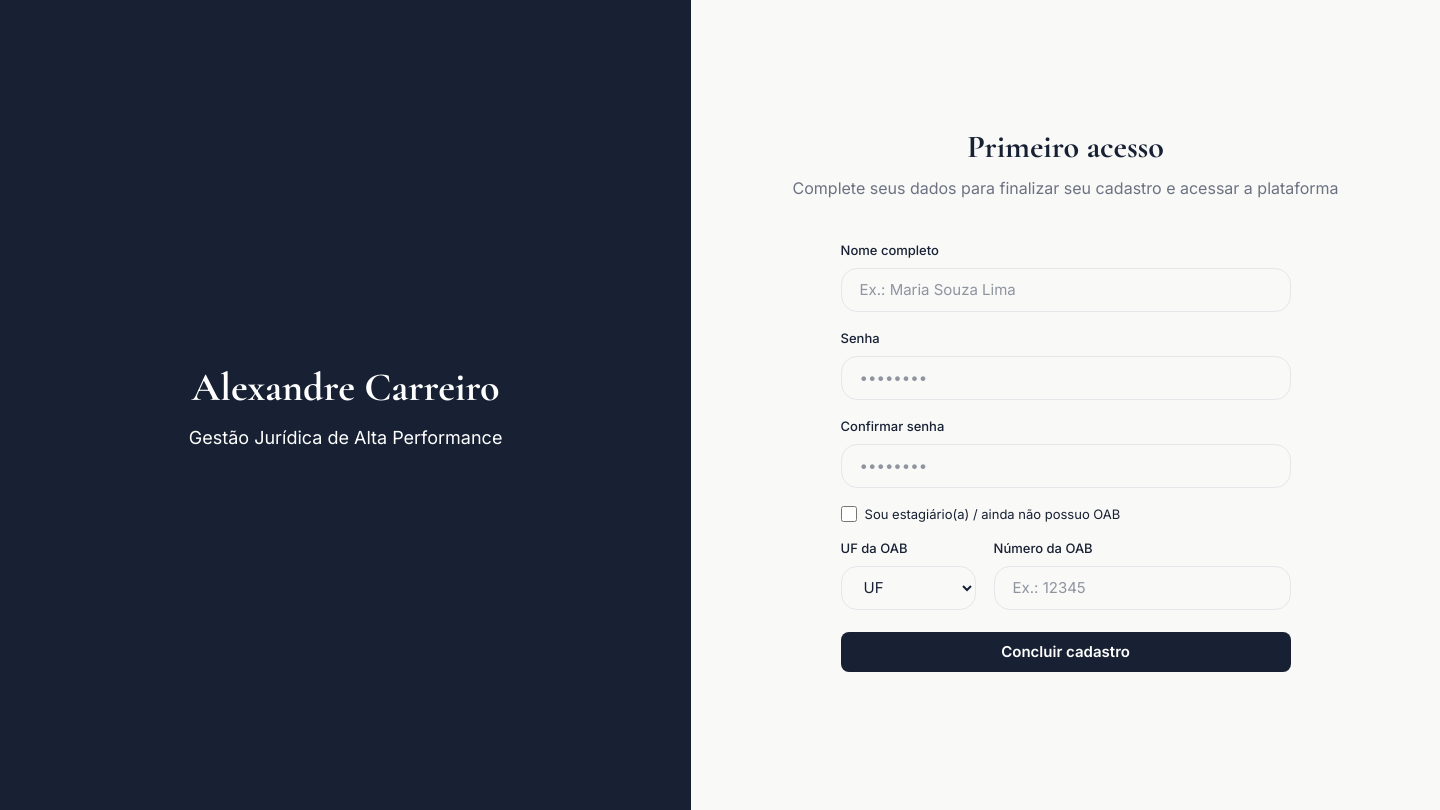
Test case: Integração: Primeiro Acesso (FirstLoginPage + useFirstLogin + services/auth + fetch) › traduz e exibe erro da API na tela quando PATCH /funcionarios/primeiro-acesso retorna erro 400 de token expirado
The width and height of the screenshot is (1440, 810).
Type "Maria Souza Lima" into the field labelled "Nome completo" at (1066, 290), box [841,268,1291,312]
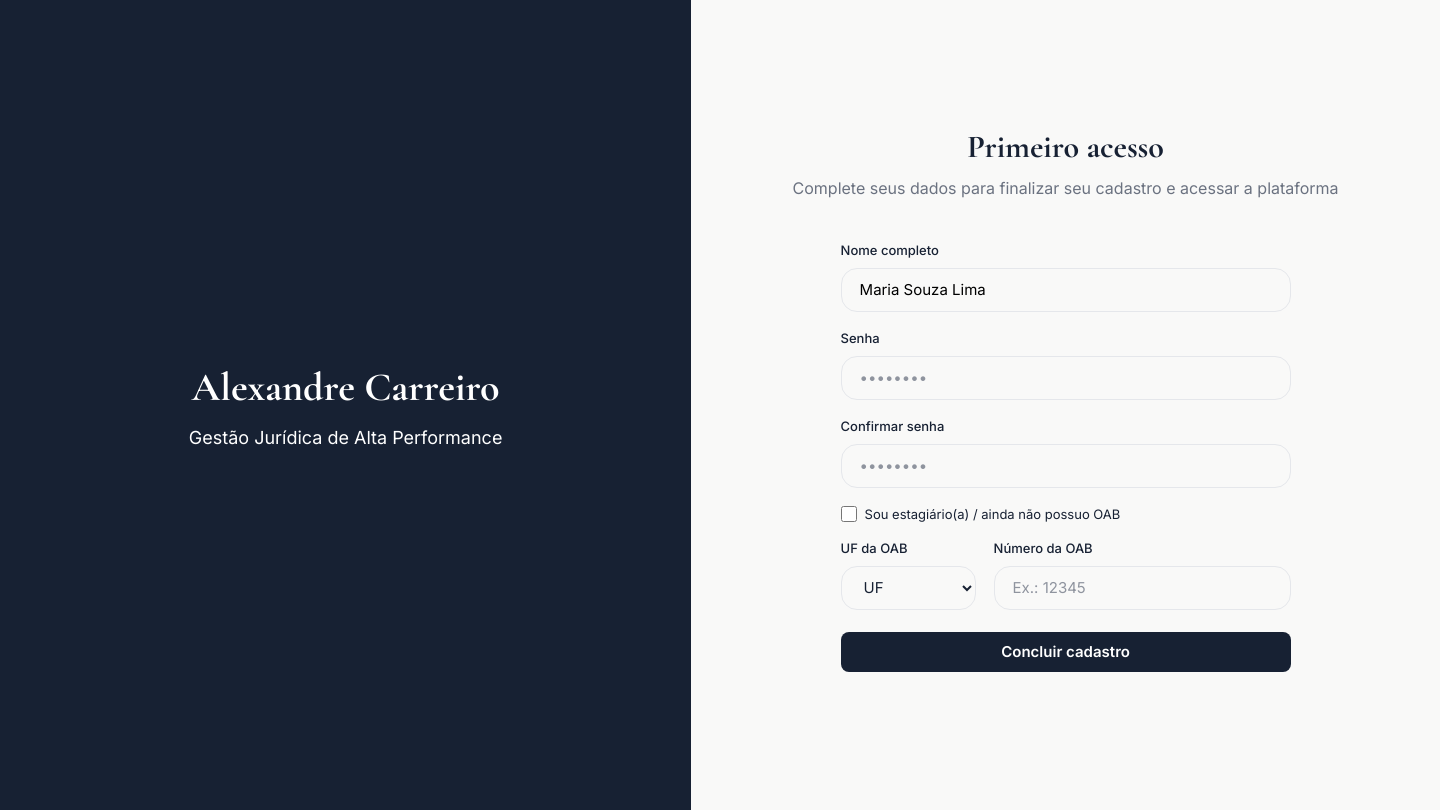
Type "SenhaForte@123" into the password field labelled "Senha" at (1066, 378), box [841,356,1291,400]
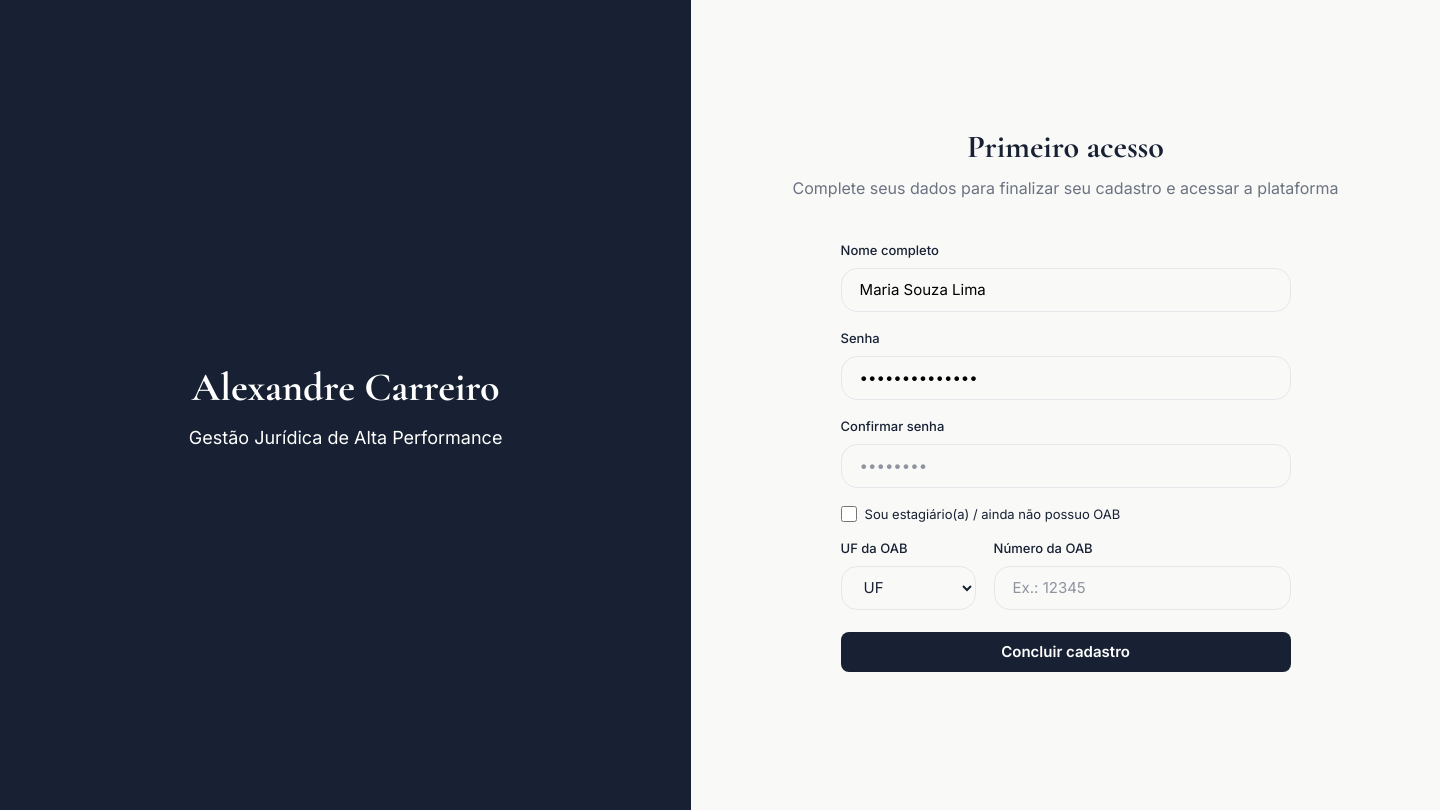
Type "SenhaForte@123" into the password field labelled "Confirmar senha" at (1066, 466), box [841,444,1291,488]
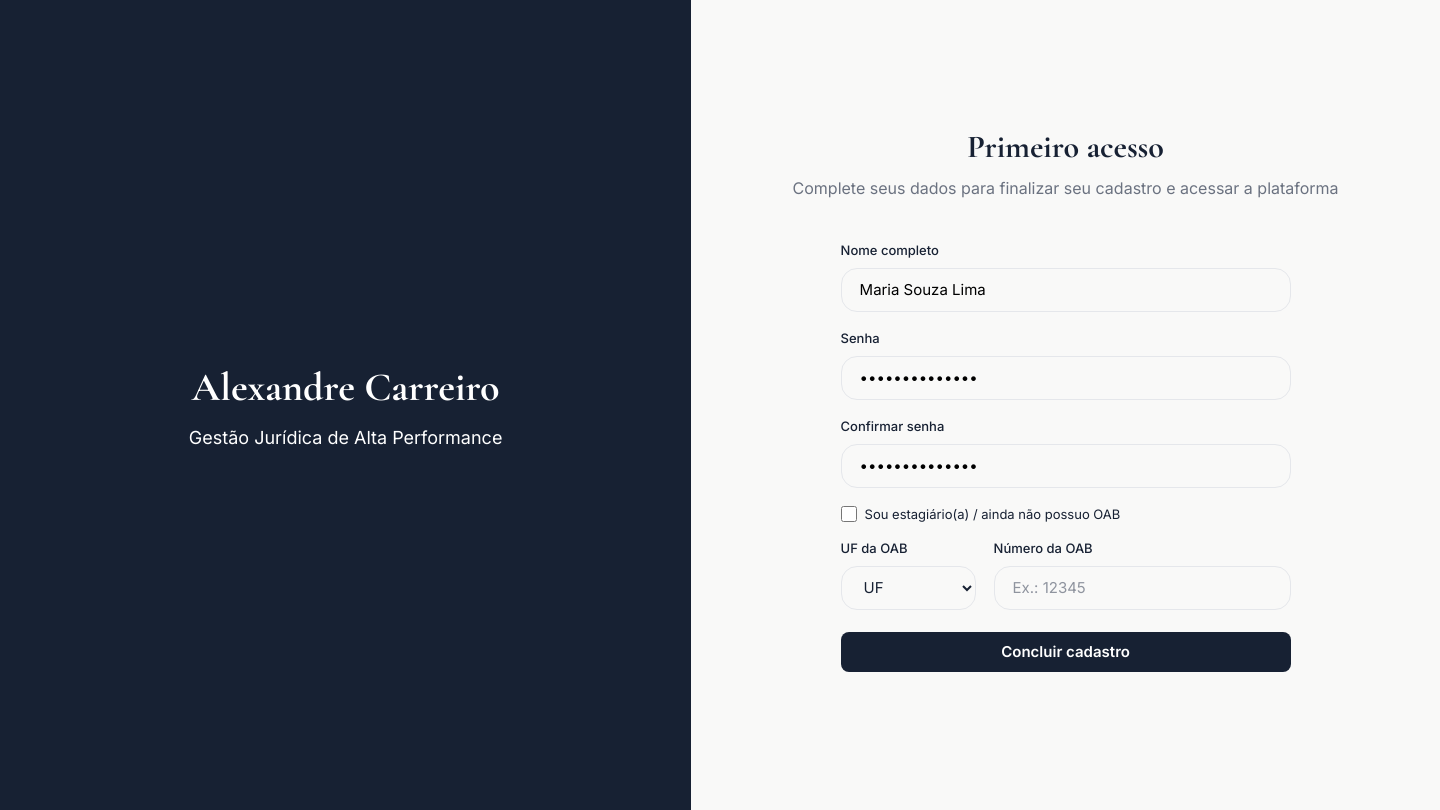
Select "DF" in the dropdown labelled "UF da OAB" at (908, 588), box [841,566,976,610]
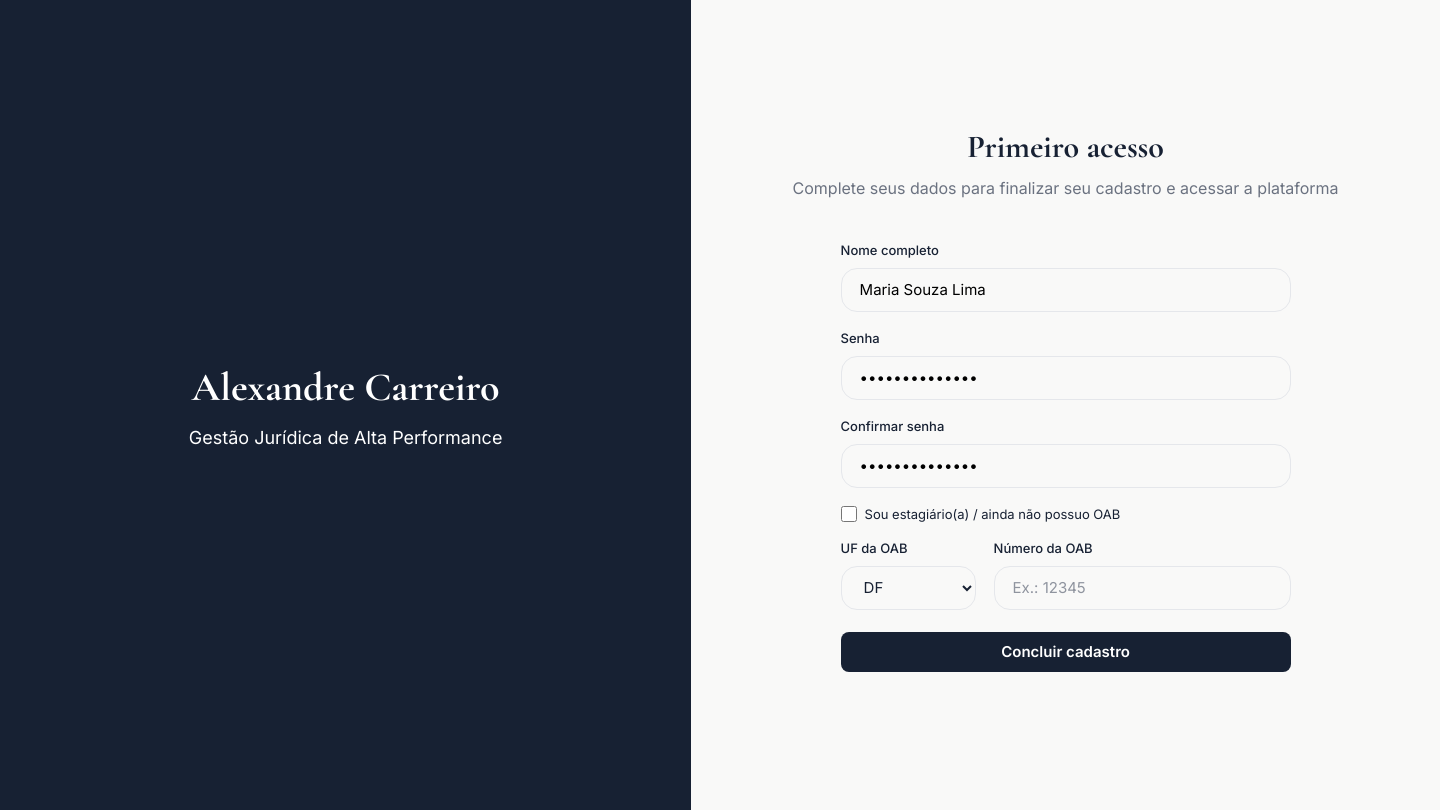
Type "12345" into the field labelled "Número da OAB" at (1142, 588), box [994,566,1291,610]
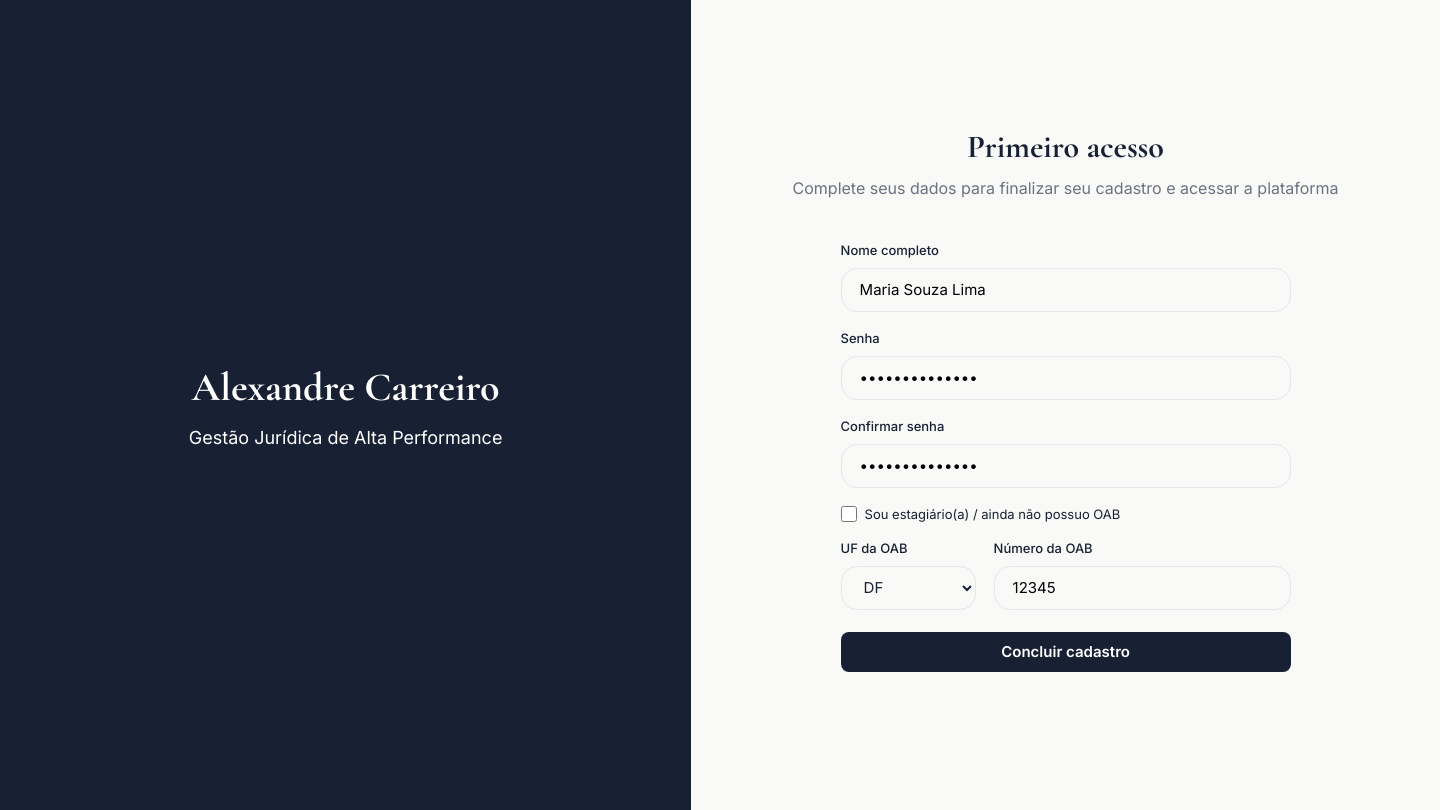
Click the button "Concluir cadastro" at (1066, 652), box [841,632,1291,672]
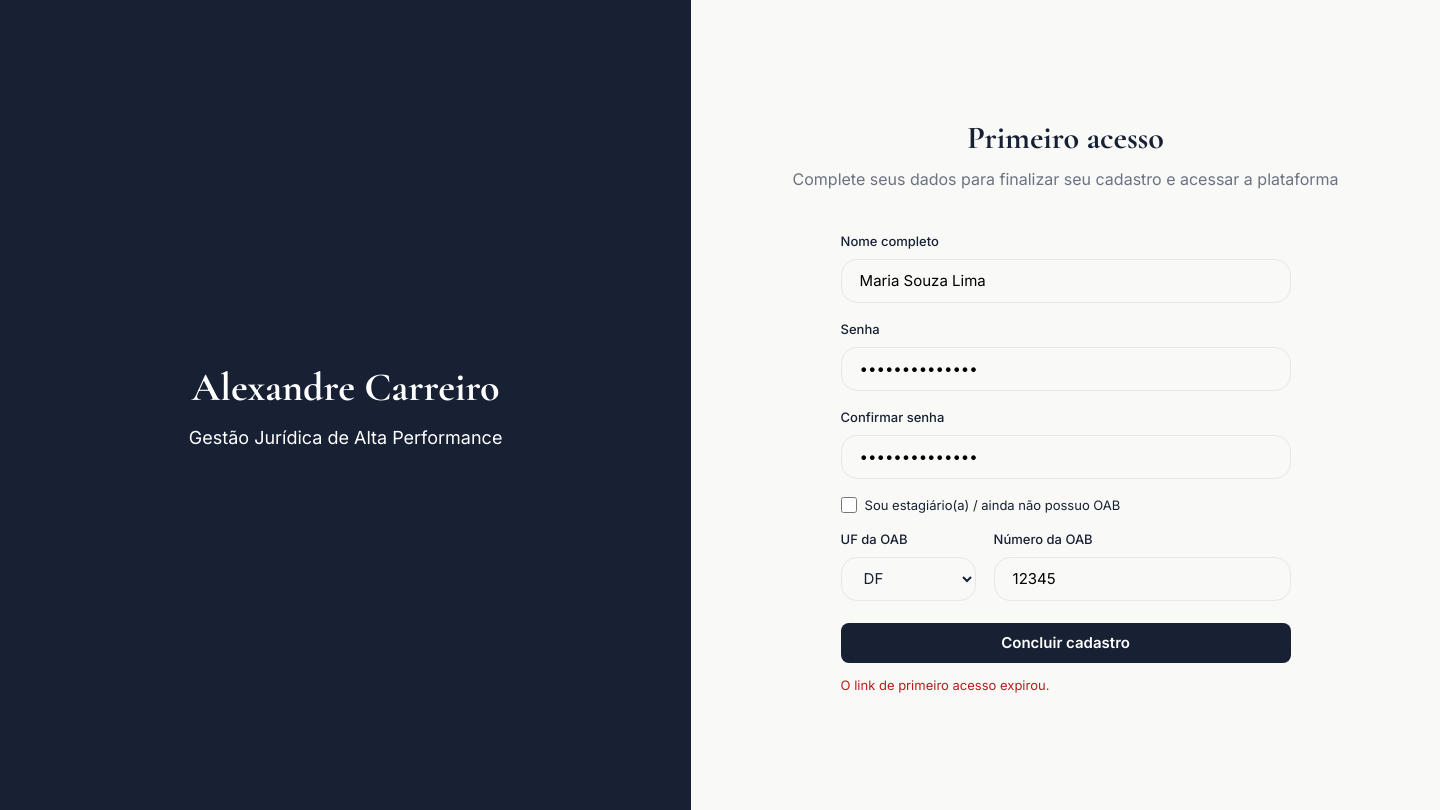
Now the text "O link de primeiro acesso expirou." is shown, box [841,676,1049,692]
